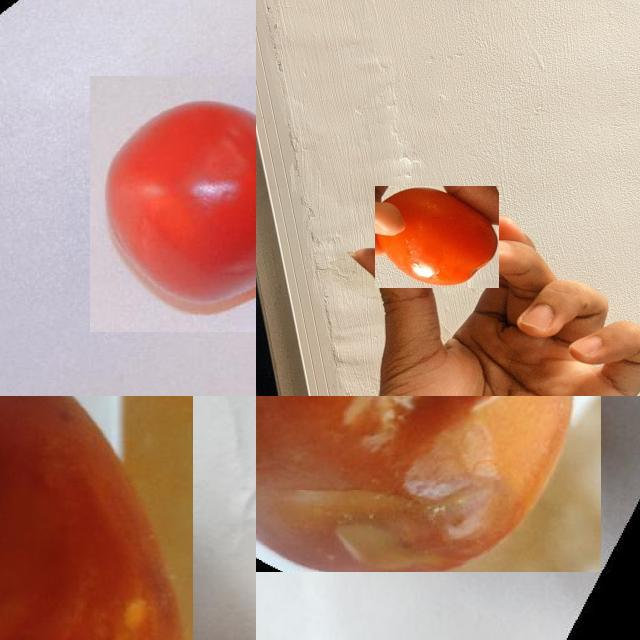Fresh Tomato: (90, 76, 256, 332), (376, 186, 502, 288)
Rotten Tomato: (256, 396, 601, 572), (0, 396, 192, 640)
